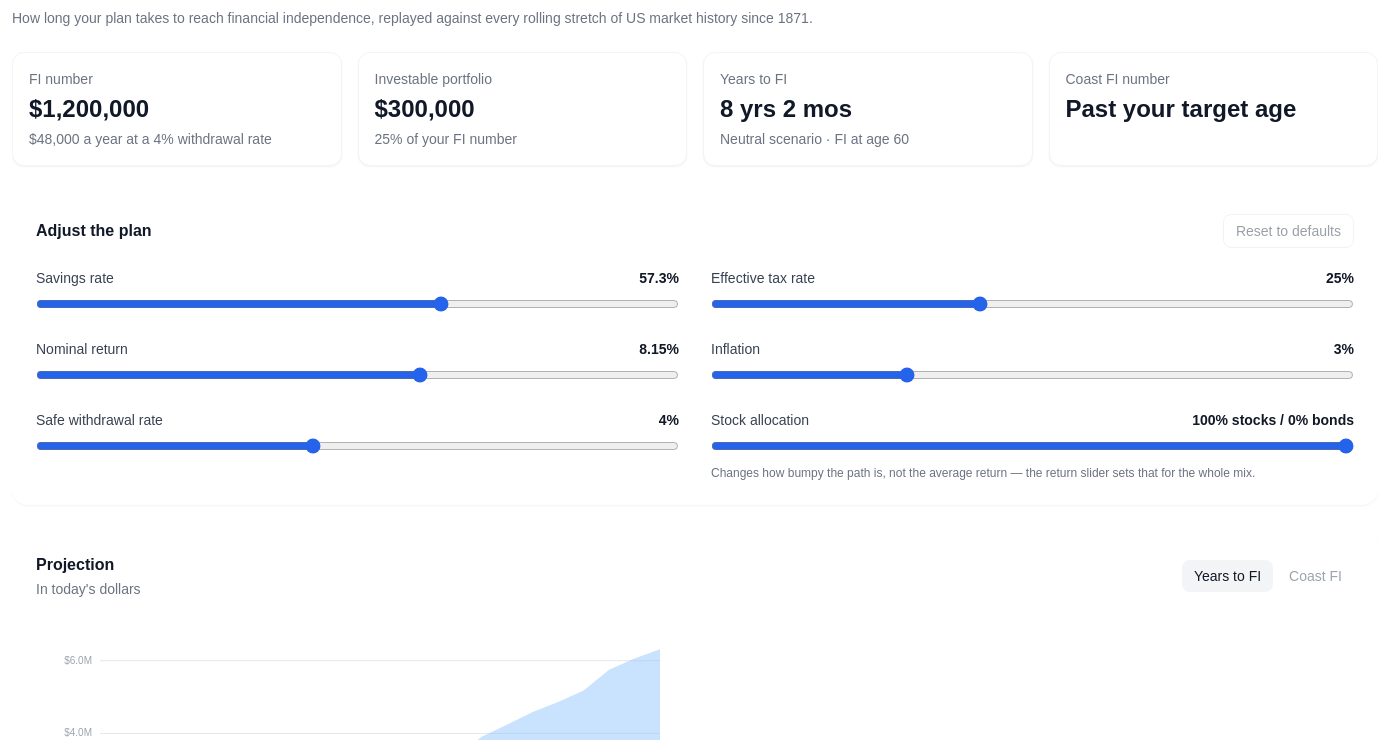
Test case: FireCalculatorClient › explains that Coast FI has no meaning past the target age
This screenshot has width=1378, height=740.
Click the tab "Coast FI". click: (1316,576)
box: [1277, 560, 1354, 592]
(page scrolled)
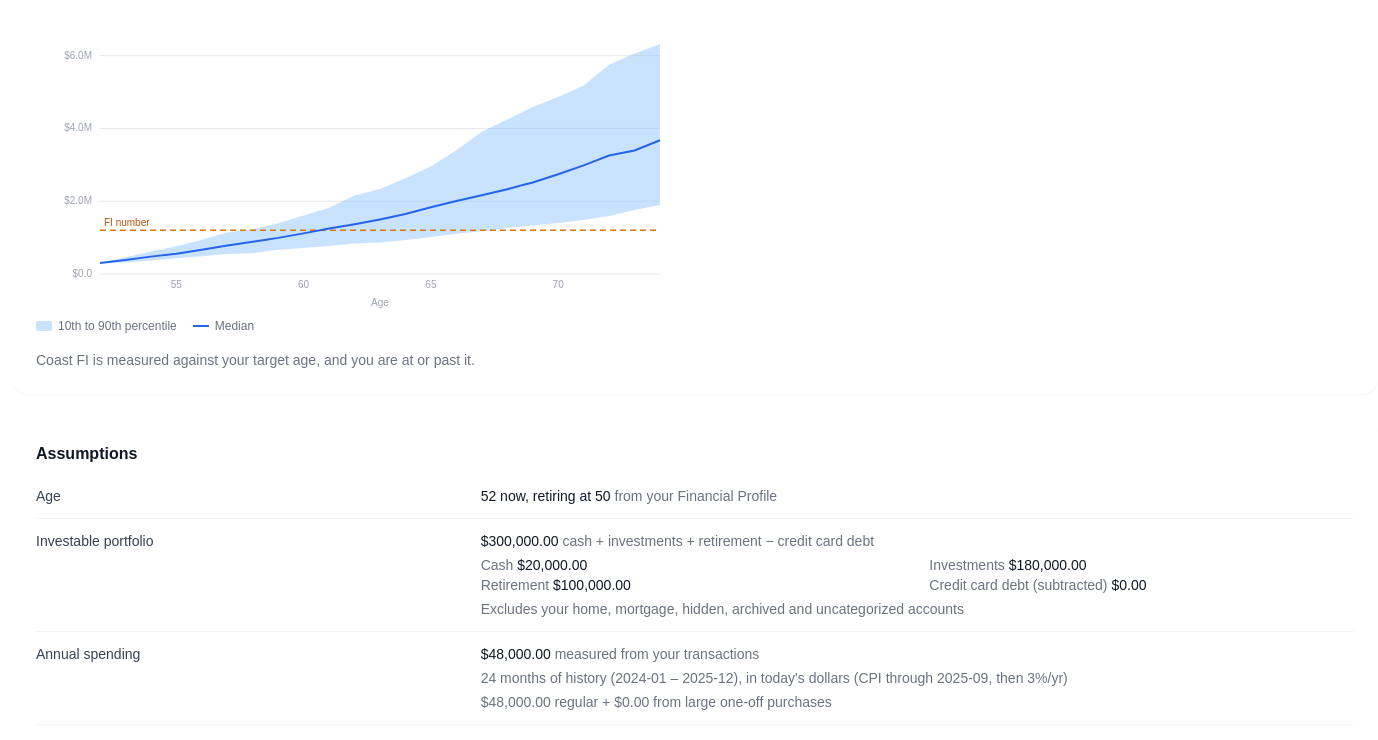
Now the text "Coast FI is measured against your target age" is shown, box [36, 352, 475, 368]
